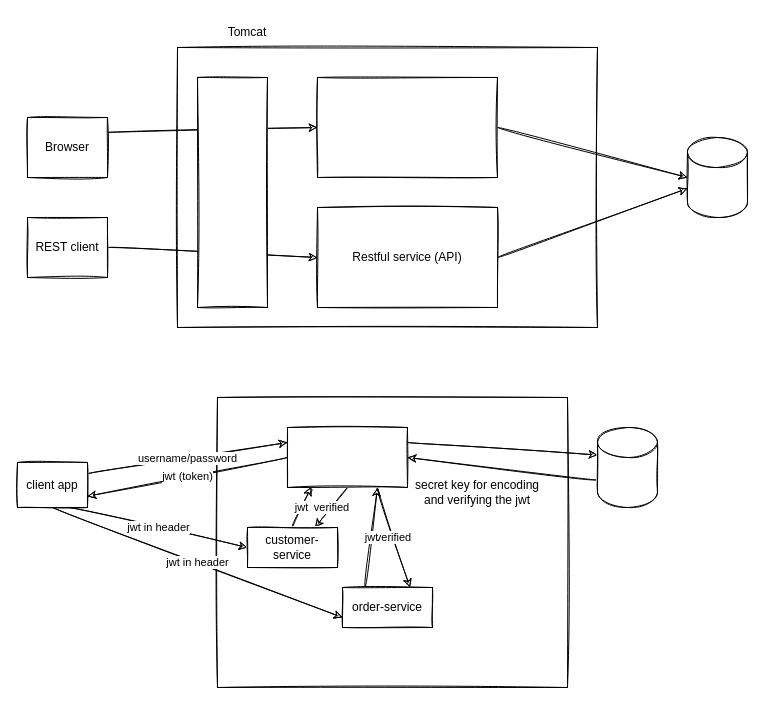
Some shapes in this 765 by 705 pixel diagram are drawn without their labels. The centre of each missing label's shape, as x and y in pixels:
AuthService: (x=347, y=457)
Spring MVC app: (x=407, y=127)
spring security: (x=232, y=192)
